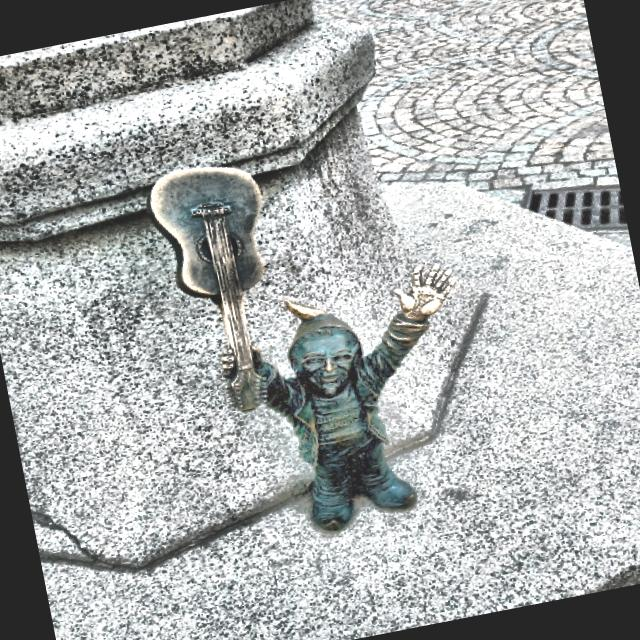Leszko_z_Wroclawia: (148, 167, 456, 531)
